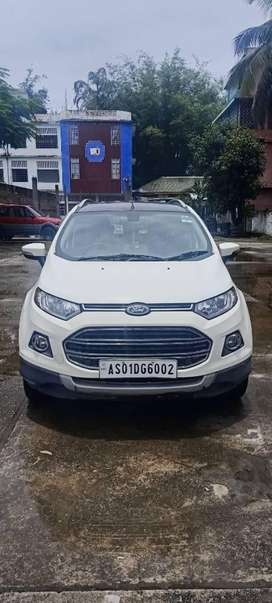AS01DG6002: (99, 358, 177, 379)
